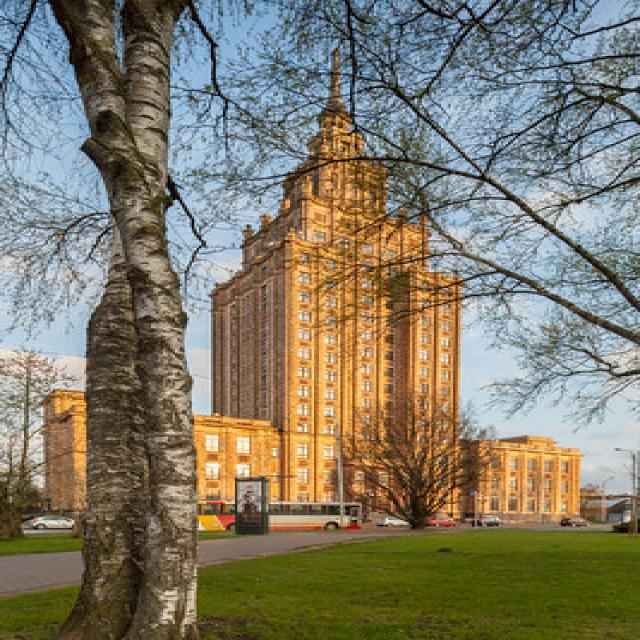Normal_building: (202, 97, 476, 526)
